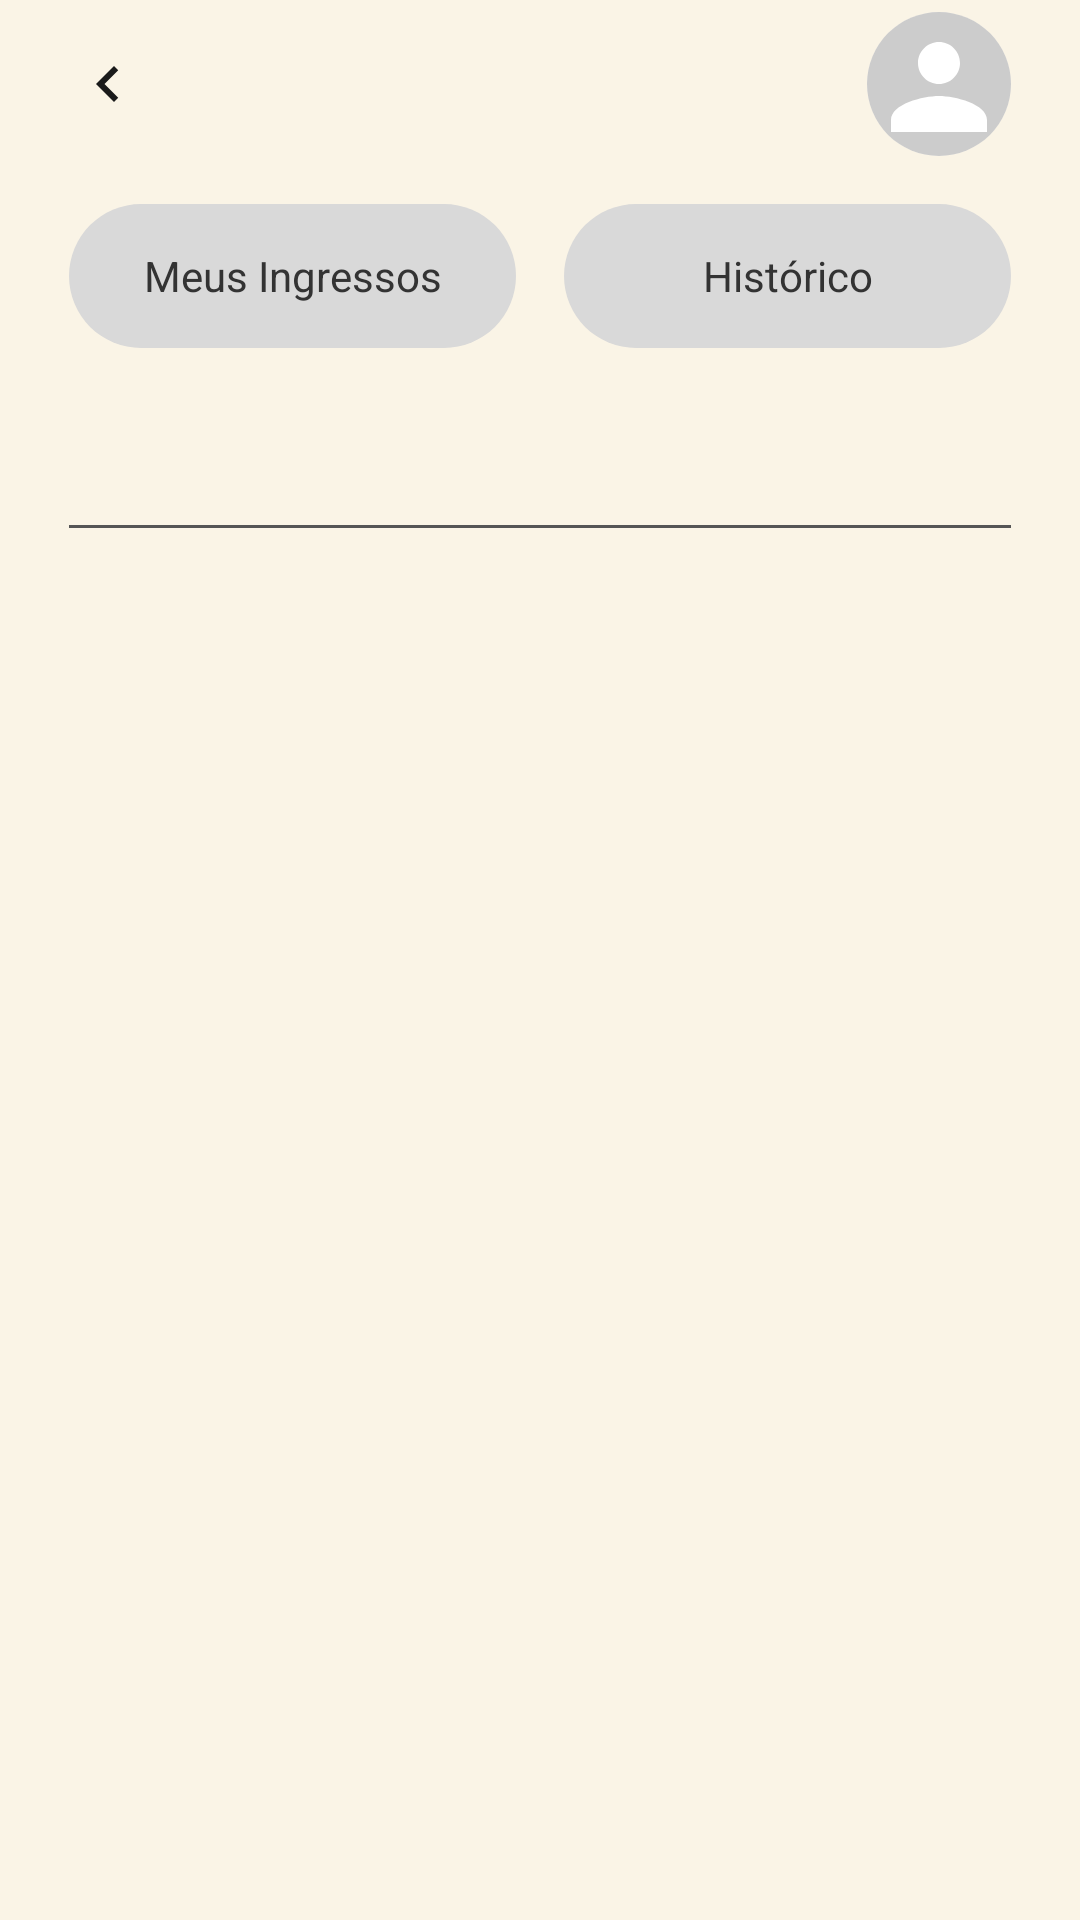

Icon click points for this 1080px×1920px phone screenshot, format [x,y]:
Voltar: [107,84]
